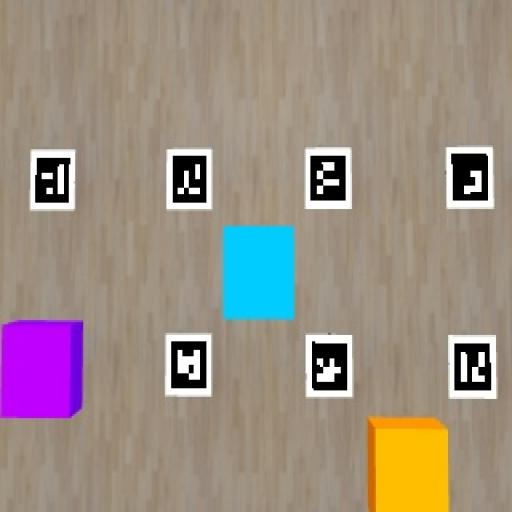car: (0, 320, 83, 420), (223, 227, 294, 319)
fire: (367, 416, 449, 511)
